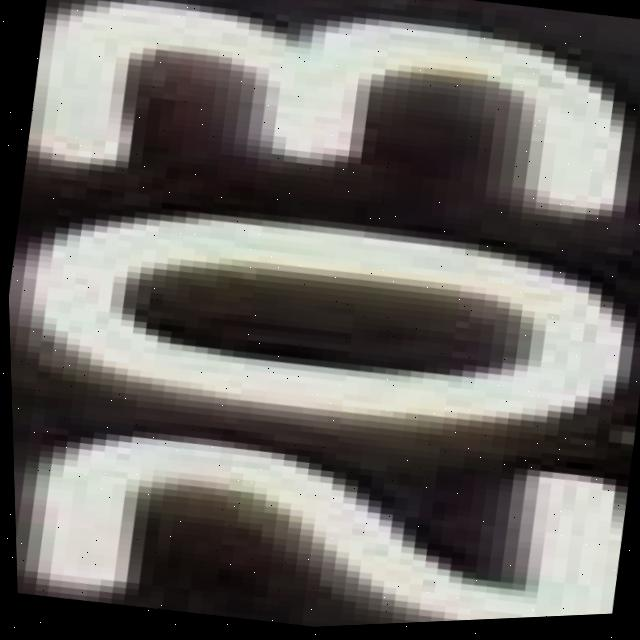character: (6, 160, 640, 490), (12, 370, 635, 640), (18, 0, 640, 270)
